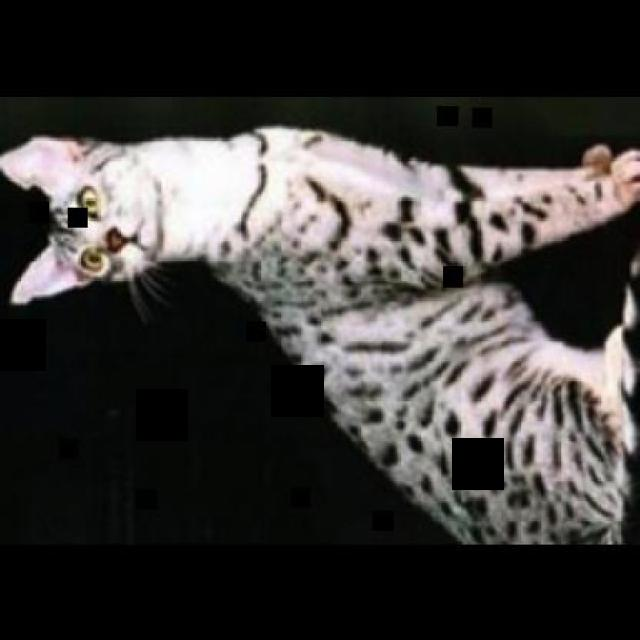unauthorized: (0, 123, 638, 544)
